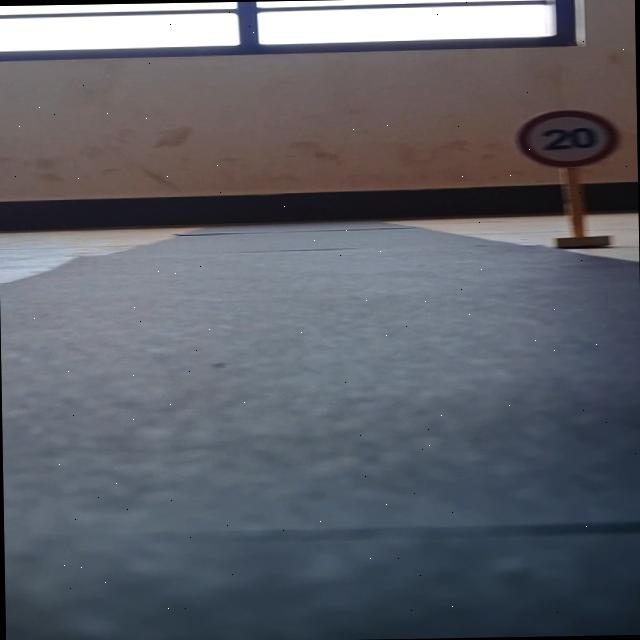Speed20: (508, 102, 630, 172)
